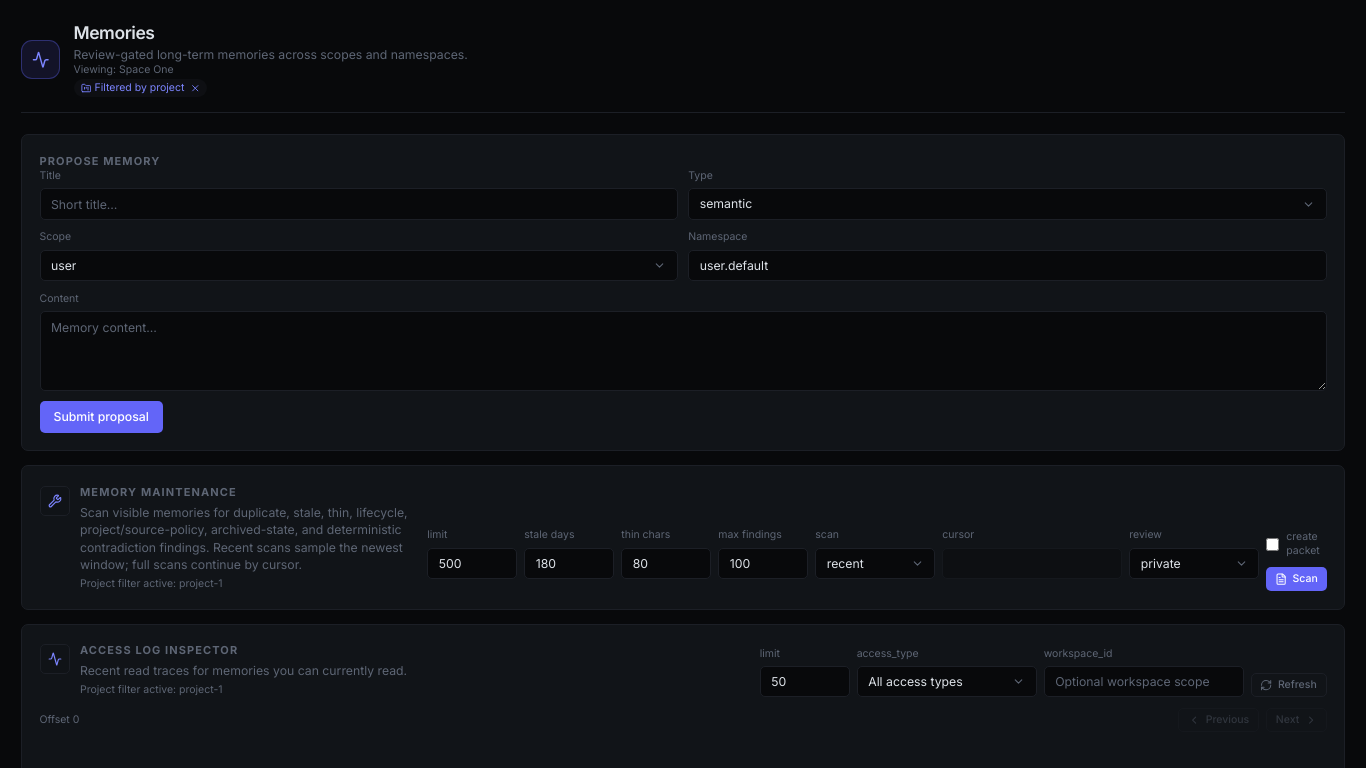
Test: MemoriesPage maintenance and access-log UI › runs a project-filtered maintenance scan and creates a claim candidate packet from the report
Click the button "Scan".
click(1296, 579)  # box x1=1266 y1=567 x2=1326 y2=591
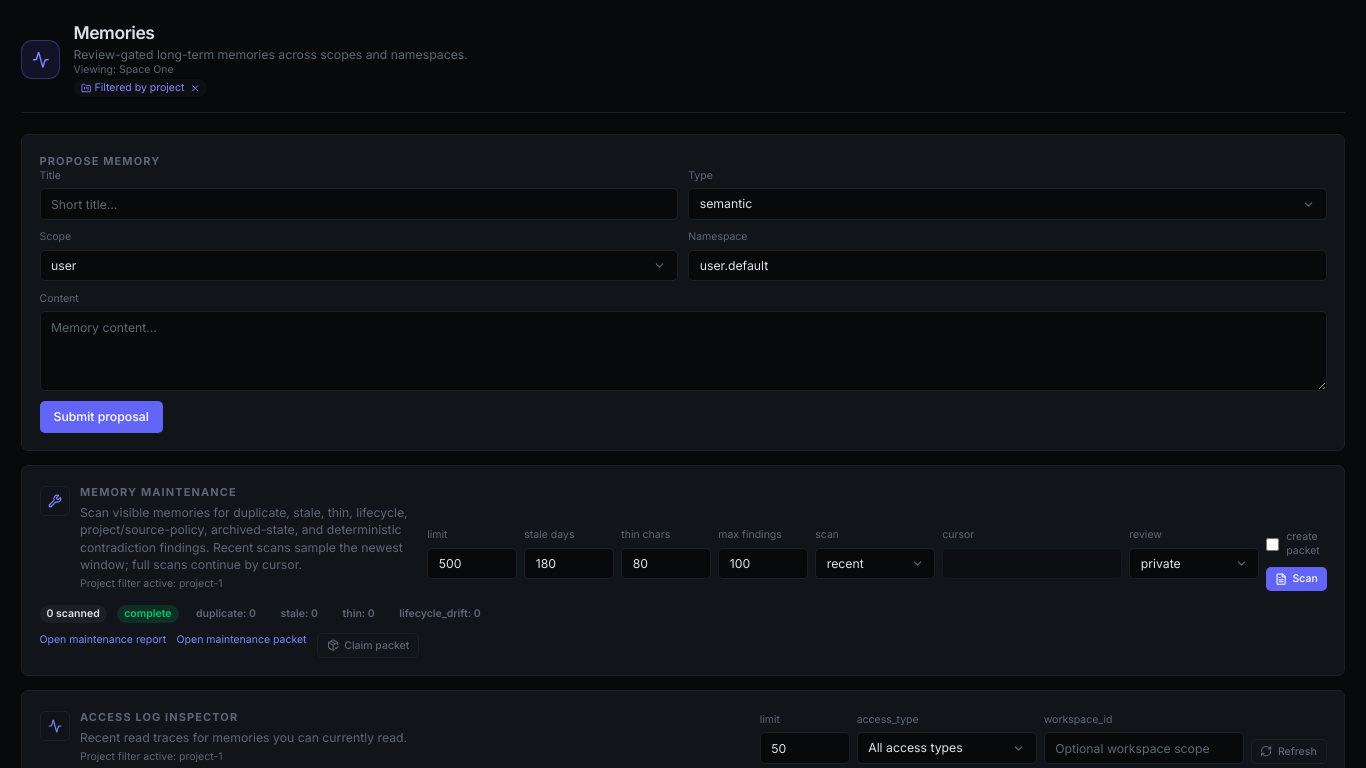
Click the button "Claim packet".
click(368, 646)  # box x1=317 y1=633 x2=419 y2=658
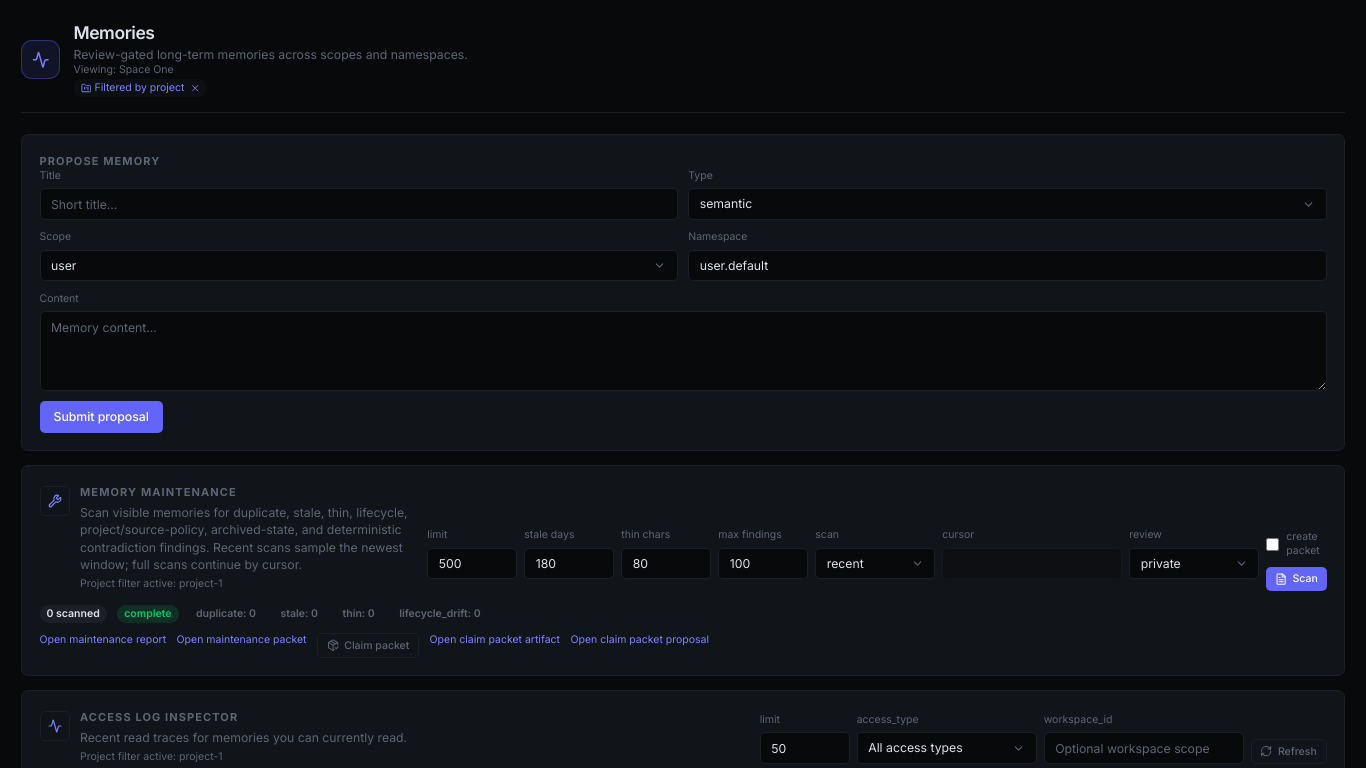
Expected: the link "Open claim packet proposal" is shown, x1=570 y1=633 x2=709 y2=646
